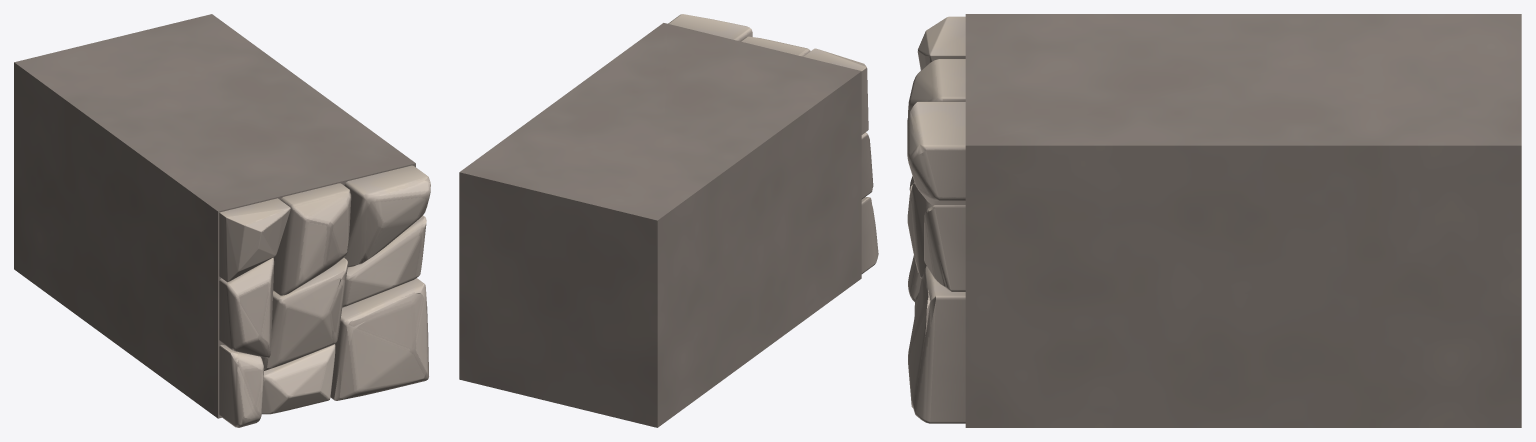
The model's file is CC_T04_LimestoneCore_V3.fbx.
3 renders of one model, left to right at view 1: azimuth 30°, elevation 25°; view 2: azimuth 150°, elevation 25°; view 3: azimuth 270°, elevation 25°, orthographic. The views are drawn at different scales.
Visible parts, largest first — view 1: Rock; view 2: Rock; view 3: Rock.
Boxes of the visible parts, x1,y1,x2,y2 form: Rock: (14,14,430,427); Rock: (459,14,878,427); Rock: (907,14,1521,427).
Size of the model in its own units: 2 by 2 by 3.95.
